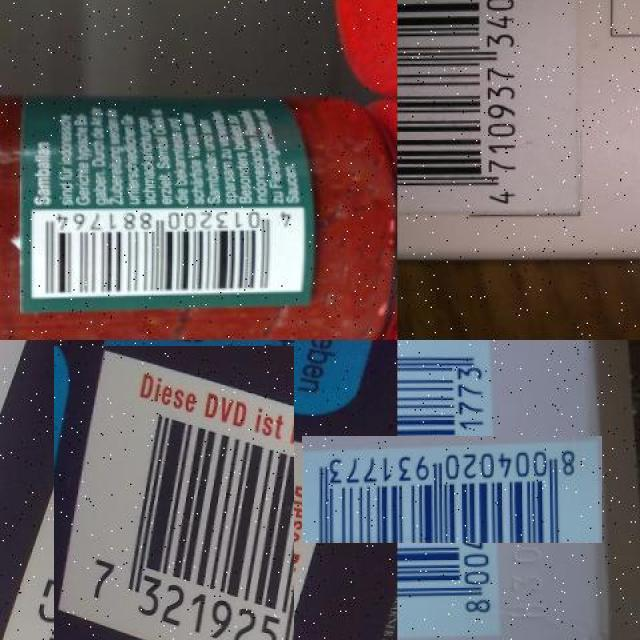Barcode: (27, 373, 321, 640), (350, 388, 554, 592), (397, 0, 544, 211), (35, 207, 308, 296)
